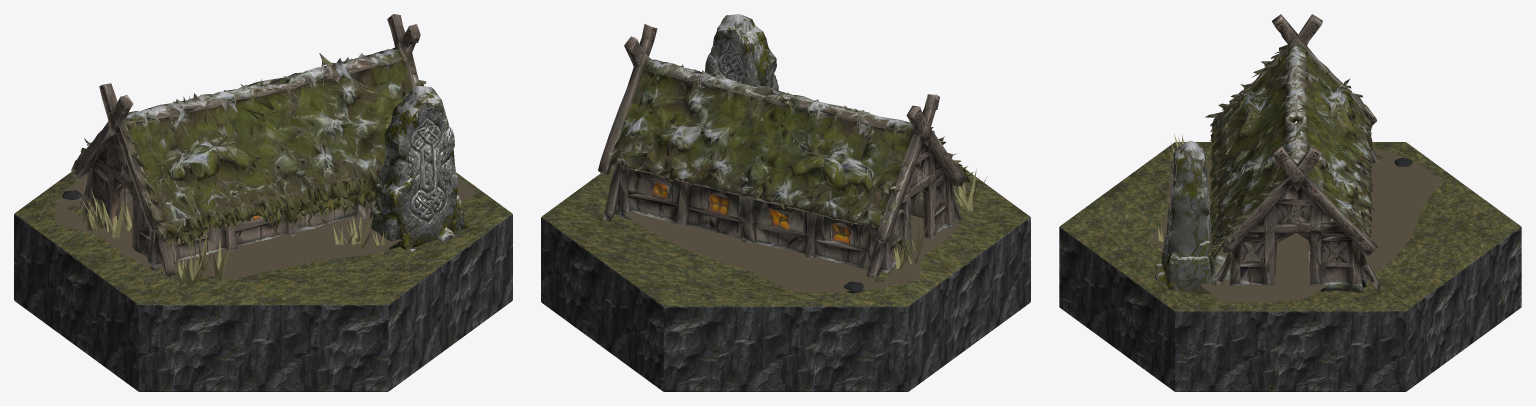
The model's file is settlement.glb.
3 renders of one model, left to right at view 1: azimuth 30°, elevation 25°; view 2: azimuth 150°, elevation 25°; view 3: azimuth 270°, elevation 25°, orthographic. The views are drawn at different scales.
Visible parts, largest first — view 1: Plains tile, Longhouse prop, Runestone prop, Settlement yard; view 2: Plains tile, Longhouse prop, Settlement yard, Runestone prop; view 3: Plains tile, Longhouse prop, Settlement yard, Runestone prop.
Part boxes in pixels (x1=…): Plains tile: x1=14, y1=171, x2=512, y2=391; Longhouse prop: x1=71, y1=14, x2=426, y2=276; Runestone prop: x1=369, y1=85, x2=468, y2=251; Settlement yard: x1=55, y1=174, x2=477, y2=278; Plains tile: x1=541, y1=159, x2=1030, y2=391; Longhouse prop: x1=598, y1=24, x2=973, y2=278; Settlement yard: x1=625, y1=191, x2=958, y2=292; Runestone prop: x1=705, y1=14, x2=778, y2=90; Plains tile: x1=1059, y1=134, x2=1521, y2=391; Longhouse prop: x1=1205, y1=14, x2=1380, y2=292; Settlement yard: x1=1150, y1=147, x2=1442, y2=302; Runestone prop: x1=1154, y1=141, x2=1214, y2=293.
Bounding box in the file's own units: 1.7 × 1.06 × 1.96.
6 materials, 4 textured.
